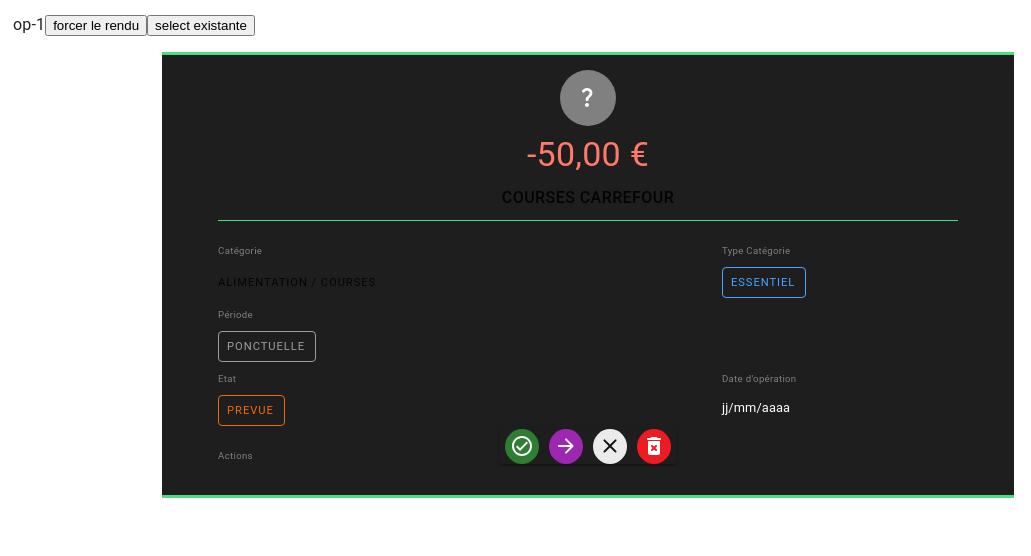
Test case: OperationDetailPage - intégration › ouverture de l'édition au clic sur un champ › un seul clic sur le champ mensualite l'ouvre, sans re-rendu forcé
The width and height of the screenshot is (1031, 556).
Click the text "Ponctuelle" at (267, 346), box [218,331,316,362]
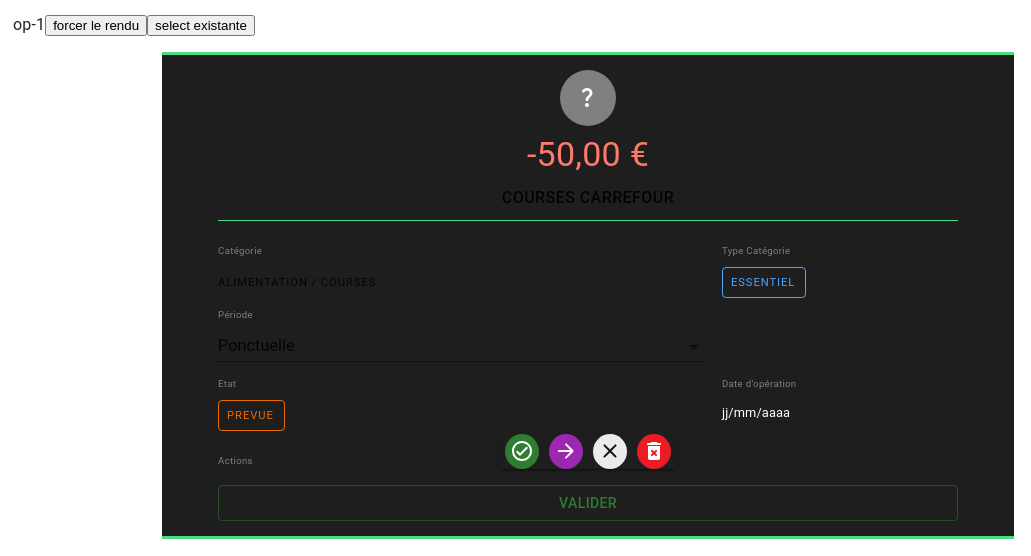
Expected: the dropdown with id "OPERATION_MENSUALITE_INPUT" reads "Ponctuelle", [218,336,295,355]
Expected: the button "Valider" is shown, [218,485,958,522]
